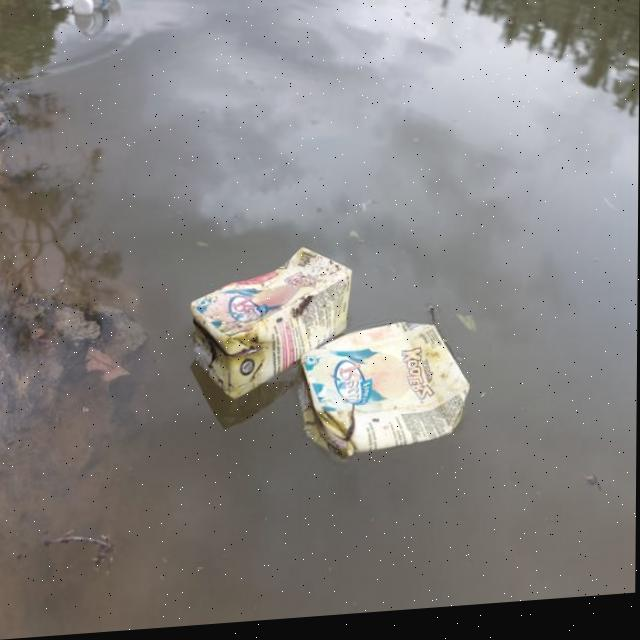paper: (165, 252, 382, 403), (288, 319, 476, 493)
